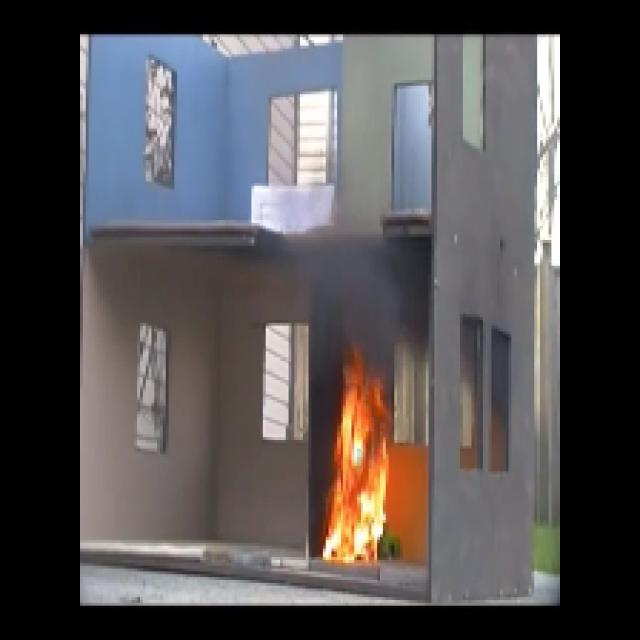fire: (328, 380, 387, 557)
smoke: (323, 248, 428, 335)
